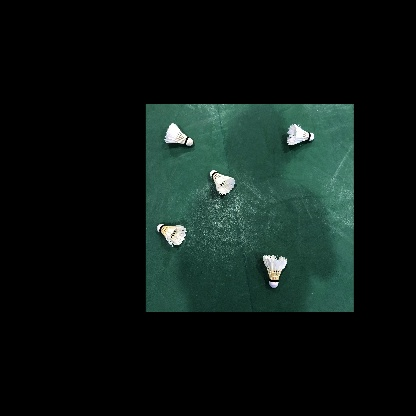ball_single: (263, 255, 287, 288), (157, 224, 187, 247), (210, 170, 236, 196), (164, 123, 193, 146), (287, 124, 314, 145)
